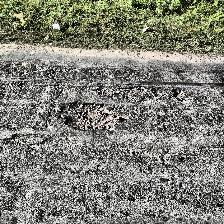pothole: (55, 100, 122, 132), (95, 85, 163, 103), (168, 89, 194, 103)
